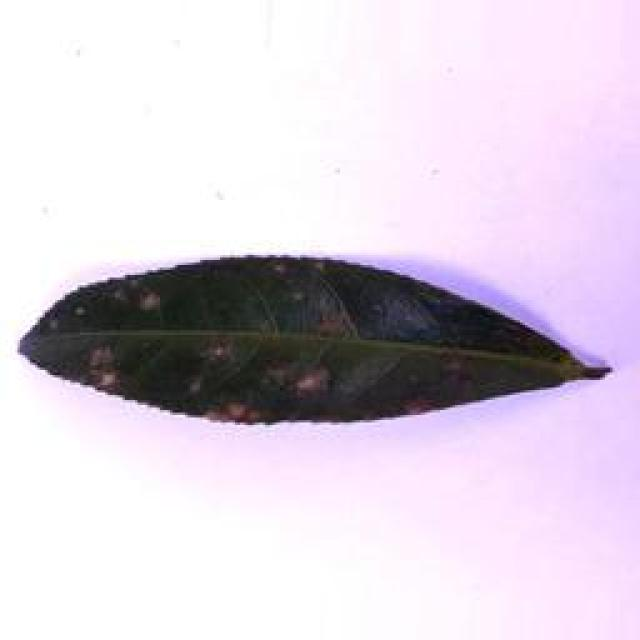Algal Leaf Spot: (9, 250, 612, 430)
